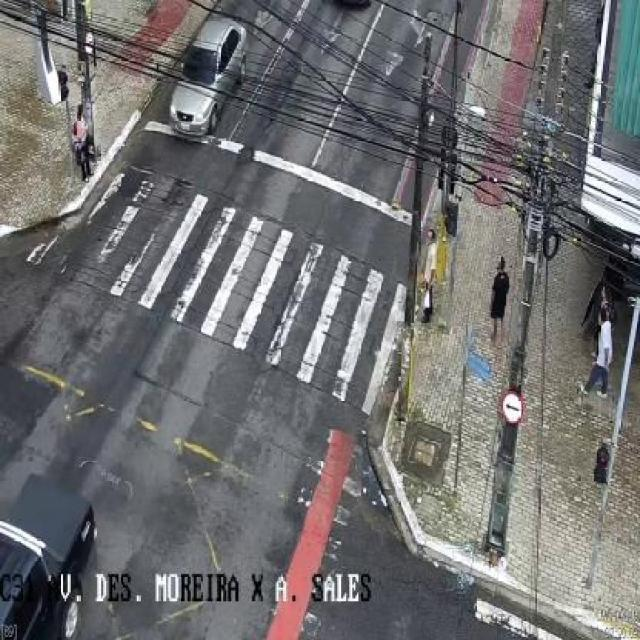Car: (0, 448, 104, 639), (163, 19, 261, 147)
